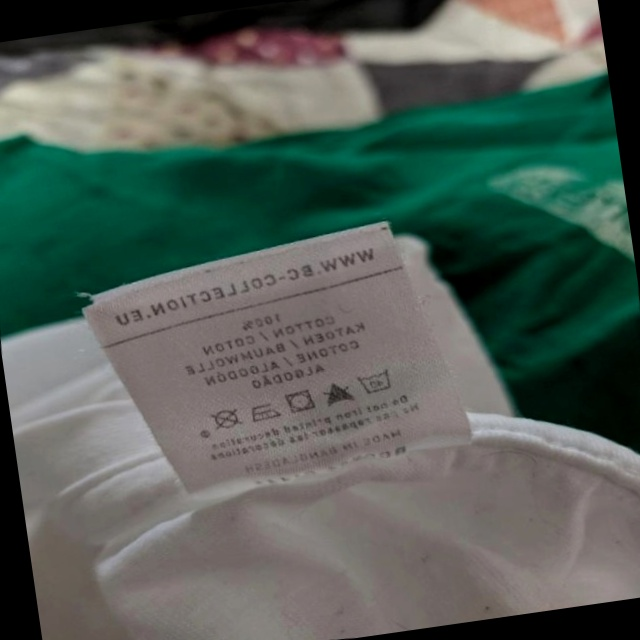40C: (353, 365, 394, 399)
DN_bleach: (317, 374, 355, 411)
DN_dry_clean: (207, 405, 244, 435)
iron_medium: (247, 398, 281, 425)
tumble_dry_low: (281, 385, 319, 418)
